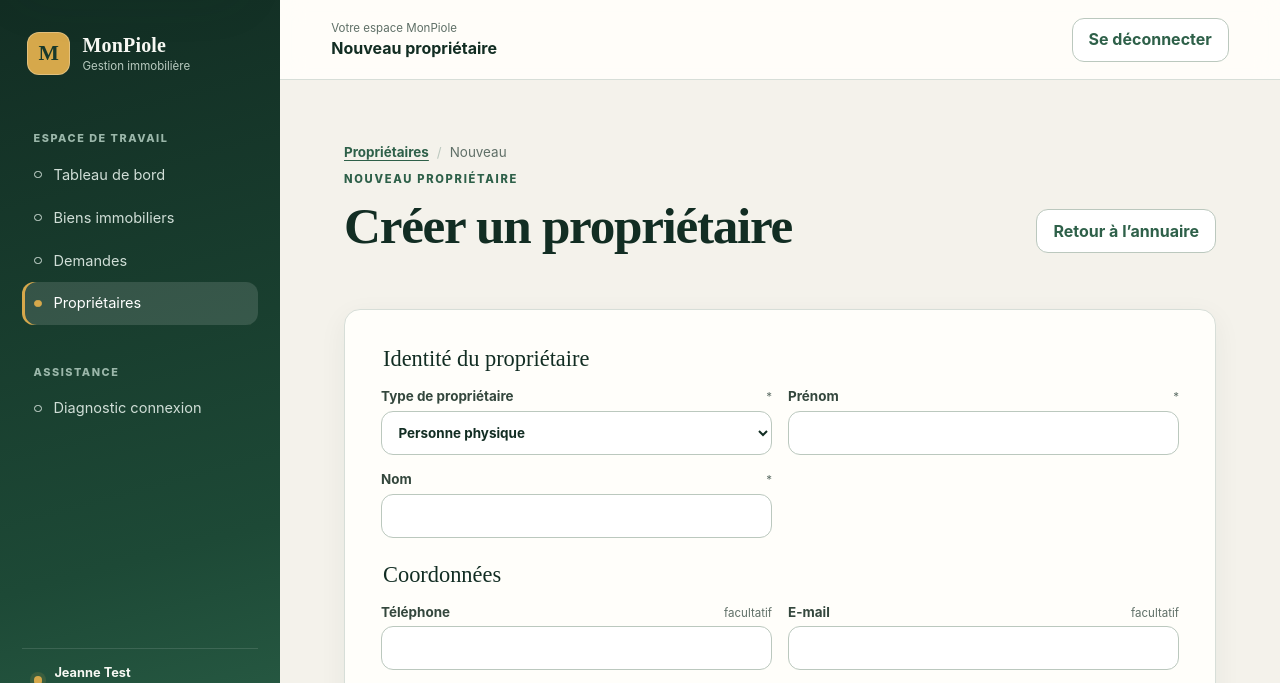
Test: annuaire Web des propriétaires › crée une personne morale avec bearer puis ouvre sa fiche
The image size is (1280, 683).
Select "Personne morale" in the dropdown labelled "Type de propriétaire": x=576, y=433 [381,411,772,455]
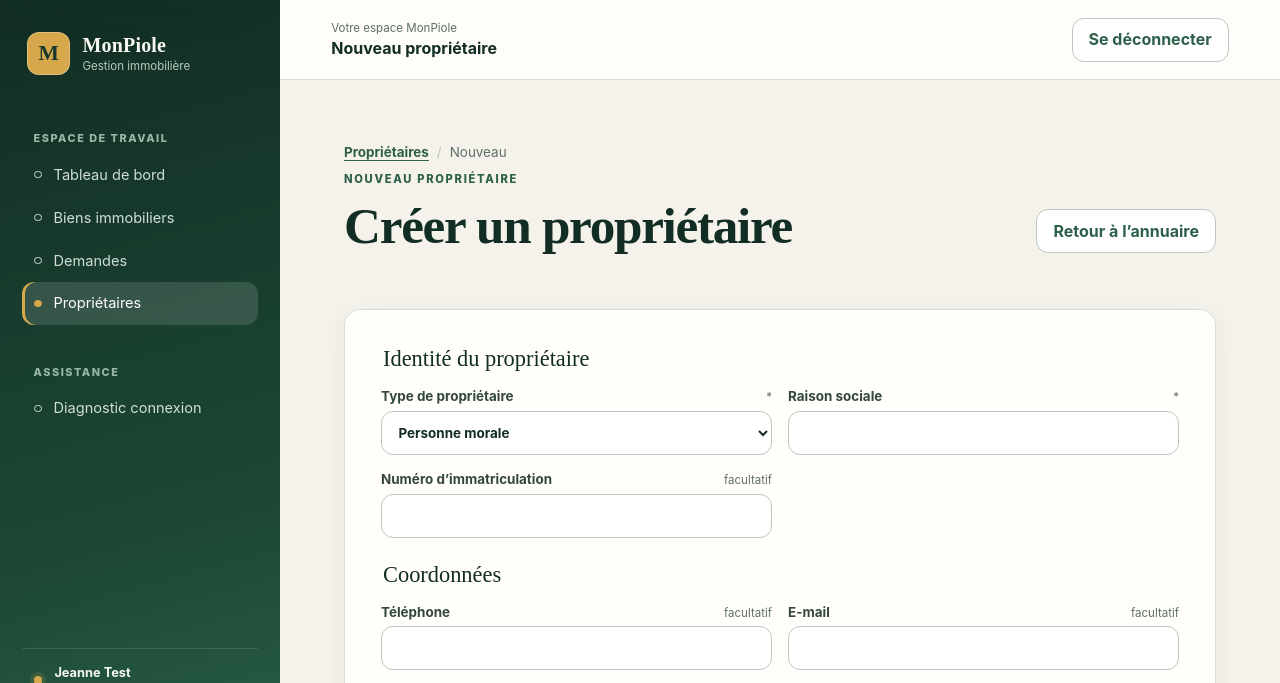
In the field labelled "Raison sociale": x=984, y=433 [788,411,1179,455], type "Lagune Gestion"
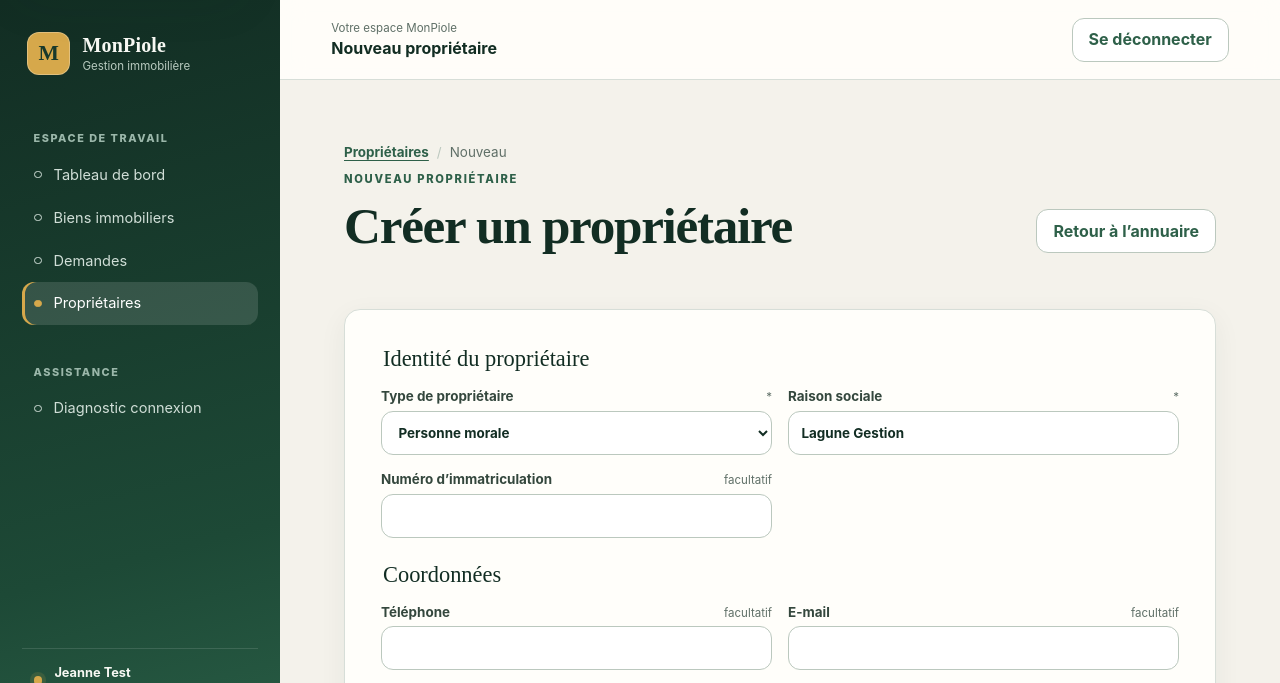
In the field labelled "Numéro d’immatriculation": x=576, y=516 [381,494,772,538], type "CI-ABJ-42"
(page scrolled)
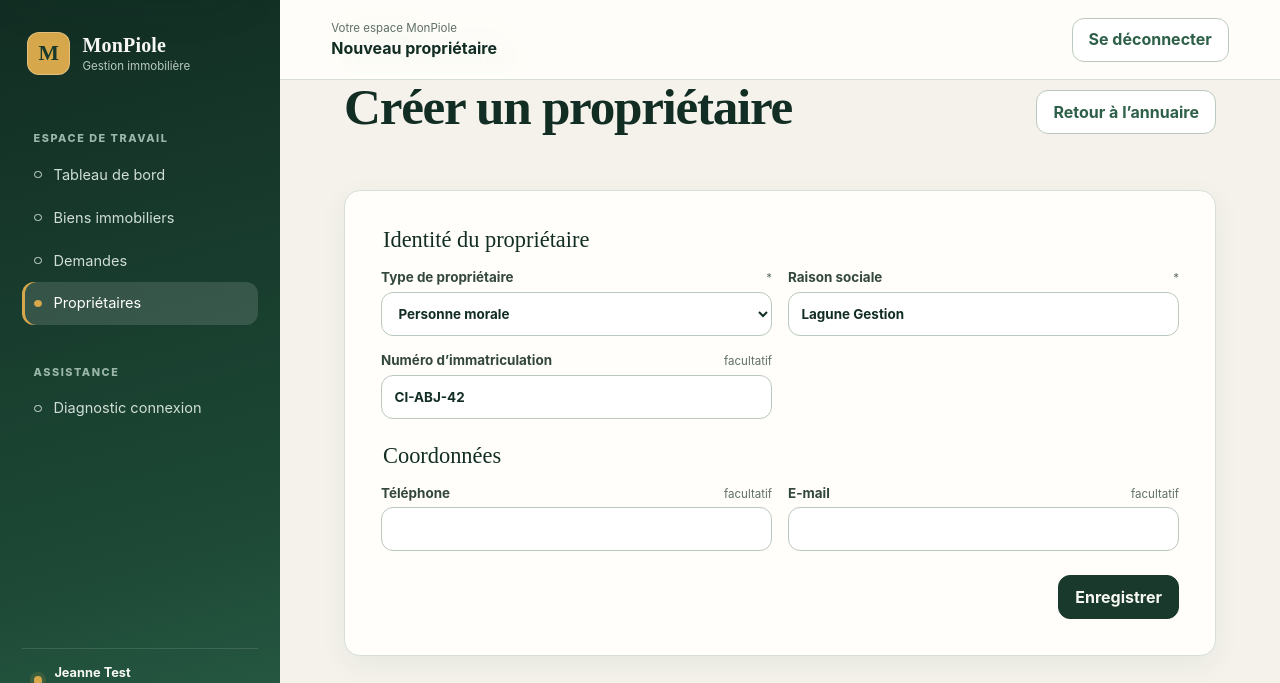
Click the button "Enregistrer": x=1119, y=598 [1058,576,1179,620]
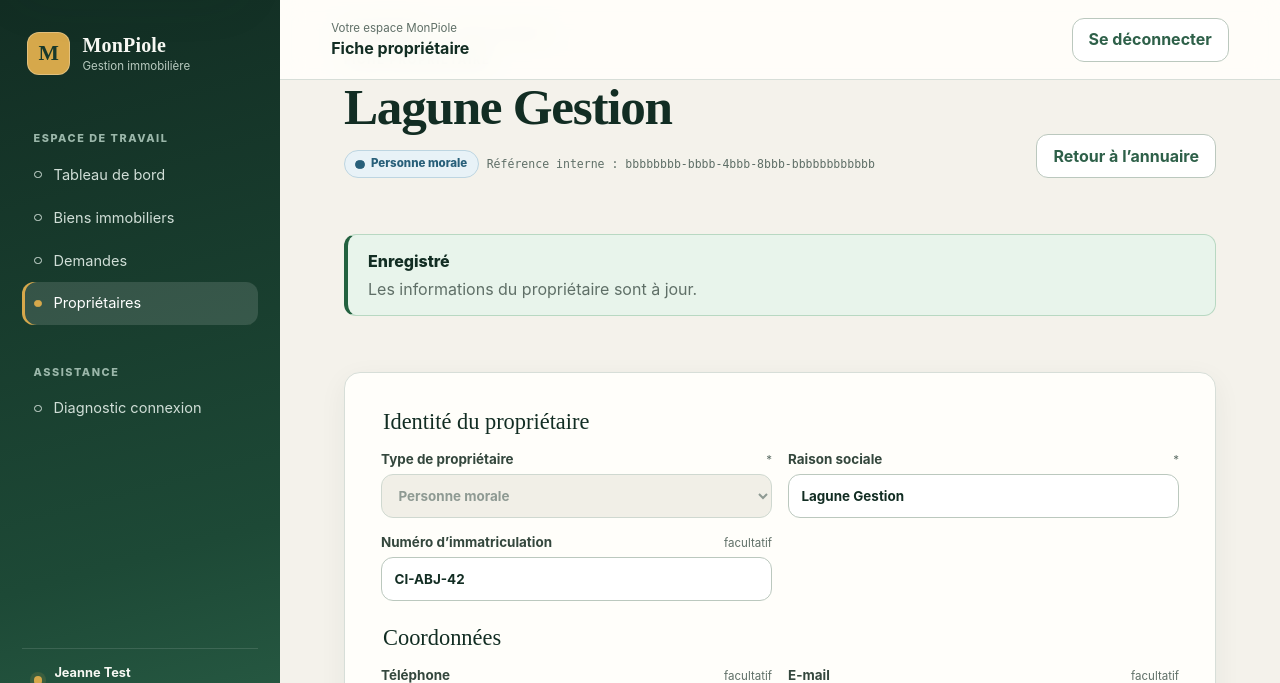
Now the heading "Lagune Gestion" is shown, box [344,78,672,135]
